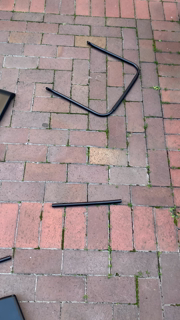C pipe: (46, 40, 143, 122)
i pipe: (51, 196, 124, 211)
